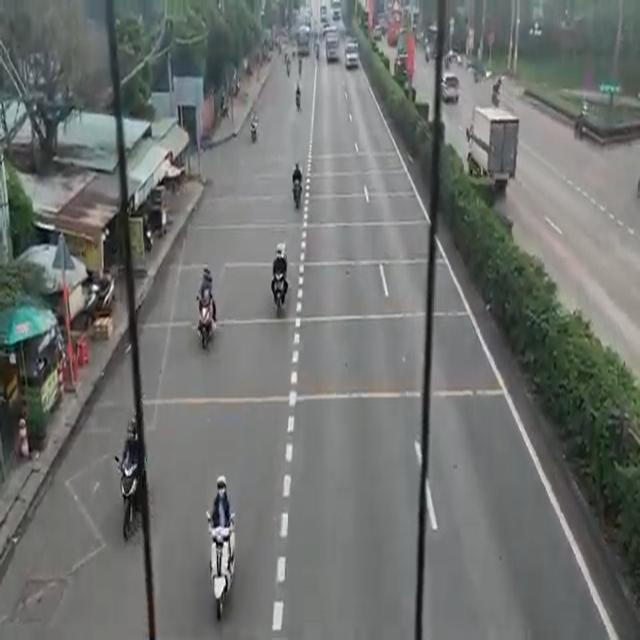motor: (210, 473, 232, 606), (118, 415, 140, 543), (196, 262, 218, 354), (272, 240, 289, 318), (292, 153, 304, 221)
truck: (466, 105, 518, 181)
